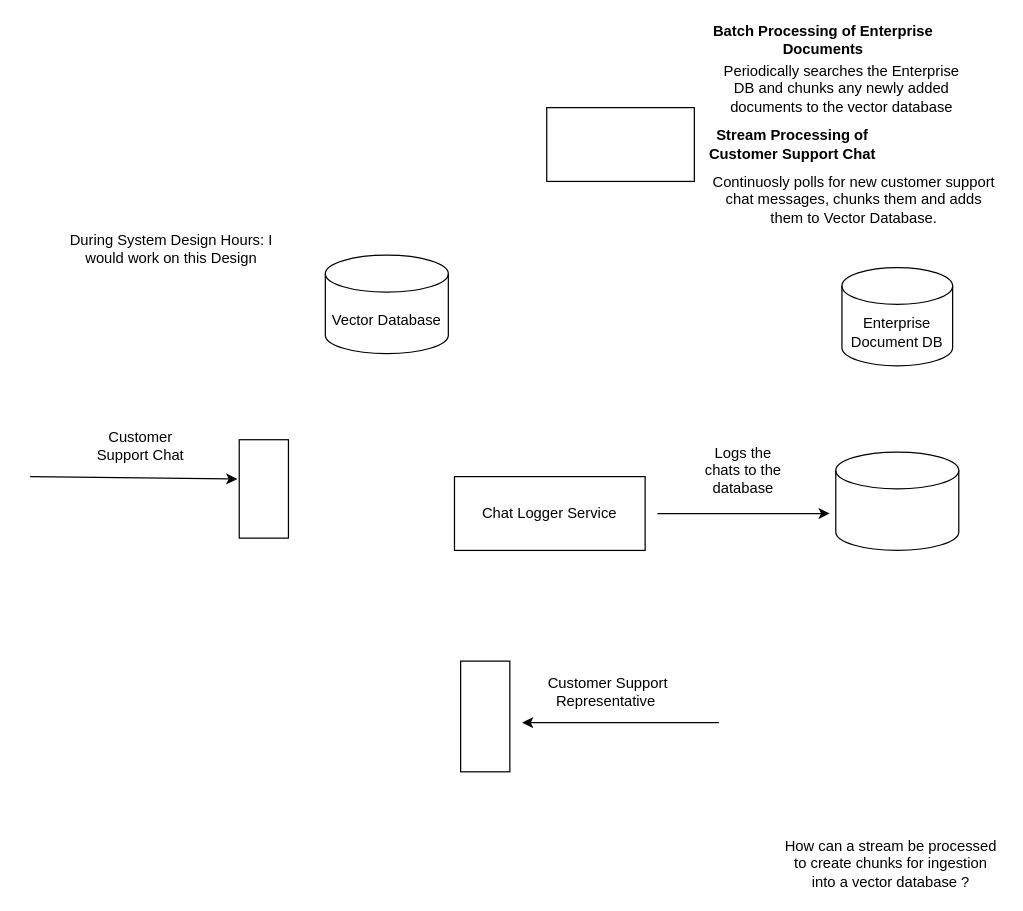
The diagram is 1023 pixels wide and 911 high, and some of its shapes have lost their labels. The centre of each missing label's shape, as x and y in pixels:
"Enterprise Chat DB" goes at pixel 897 500.
"Ingestion Service" goes at pixel 620 143.
